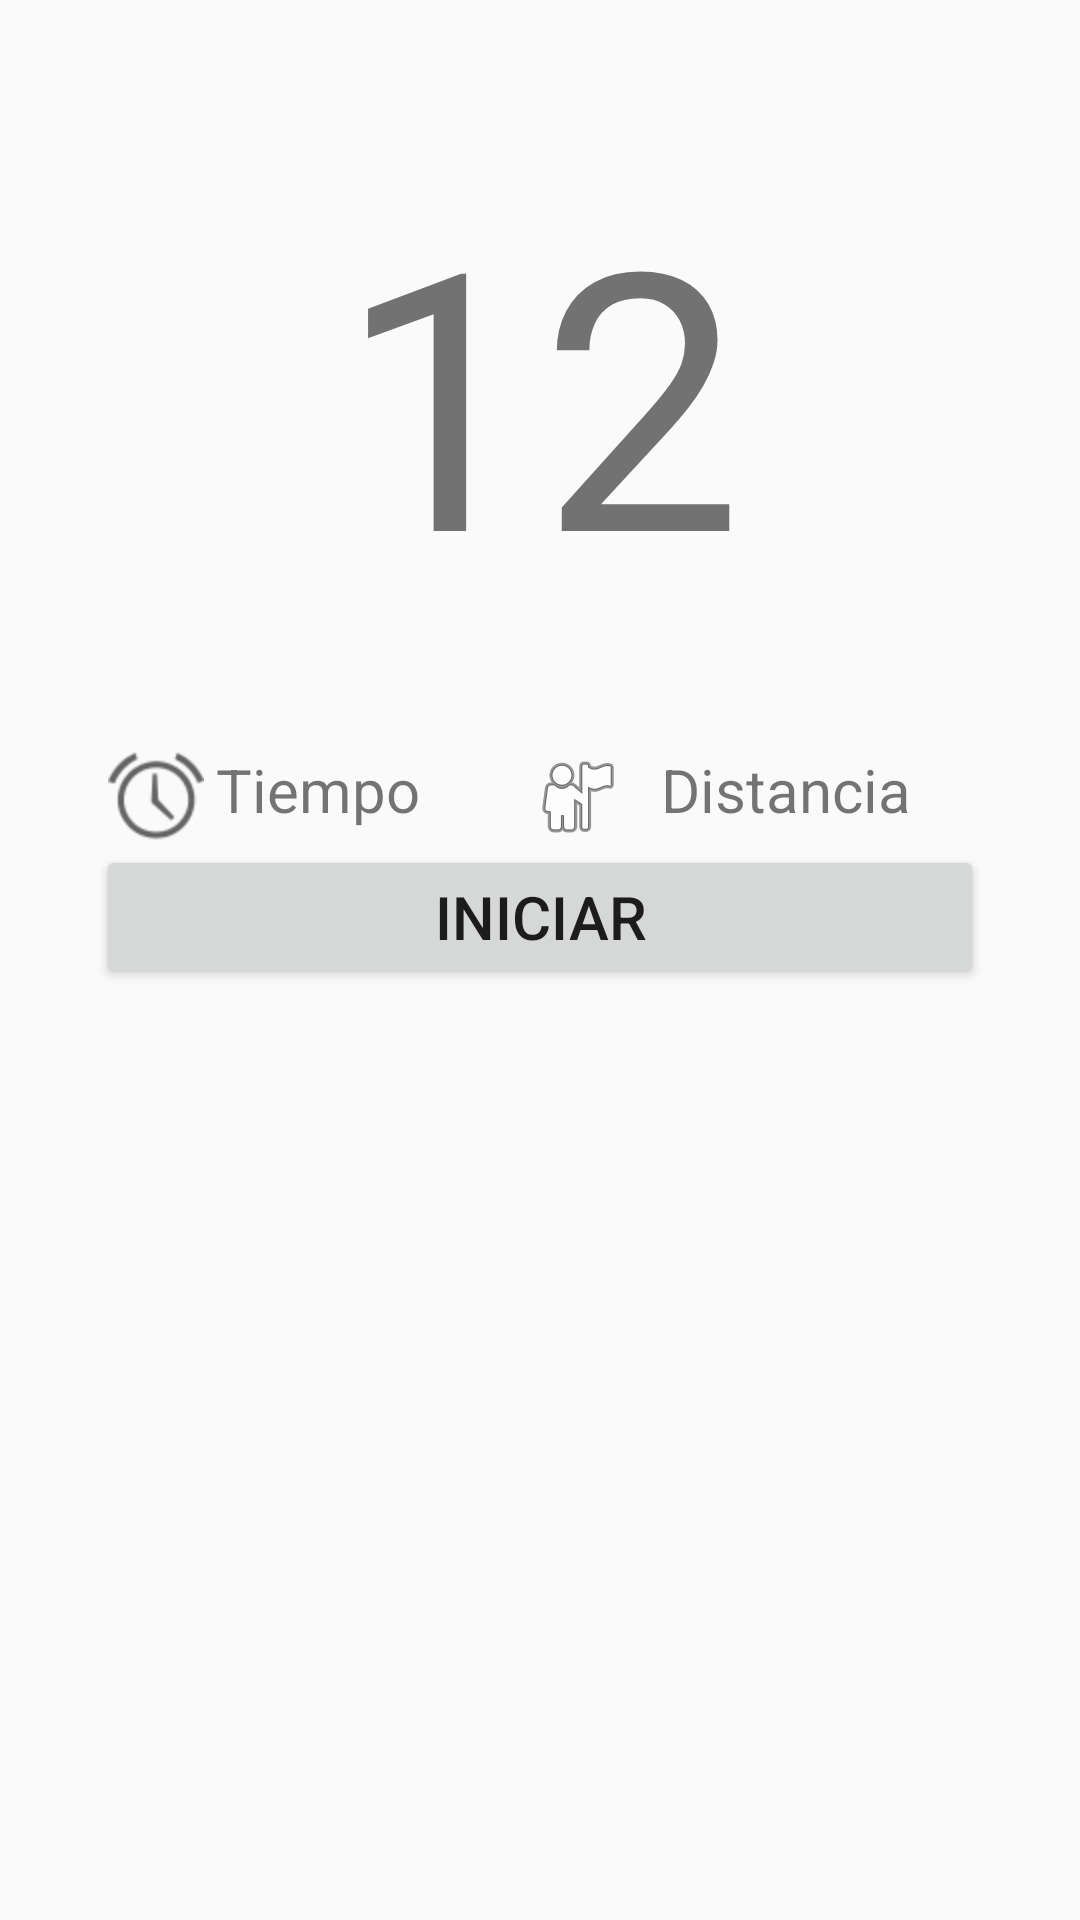

Icons on this 1080 x 1920 Android screen, each with the point to tap as [x,y]:
lock idle alarm: [156,796]
myplaces: [578,797]
